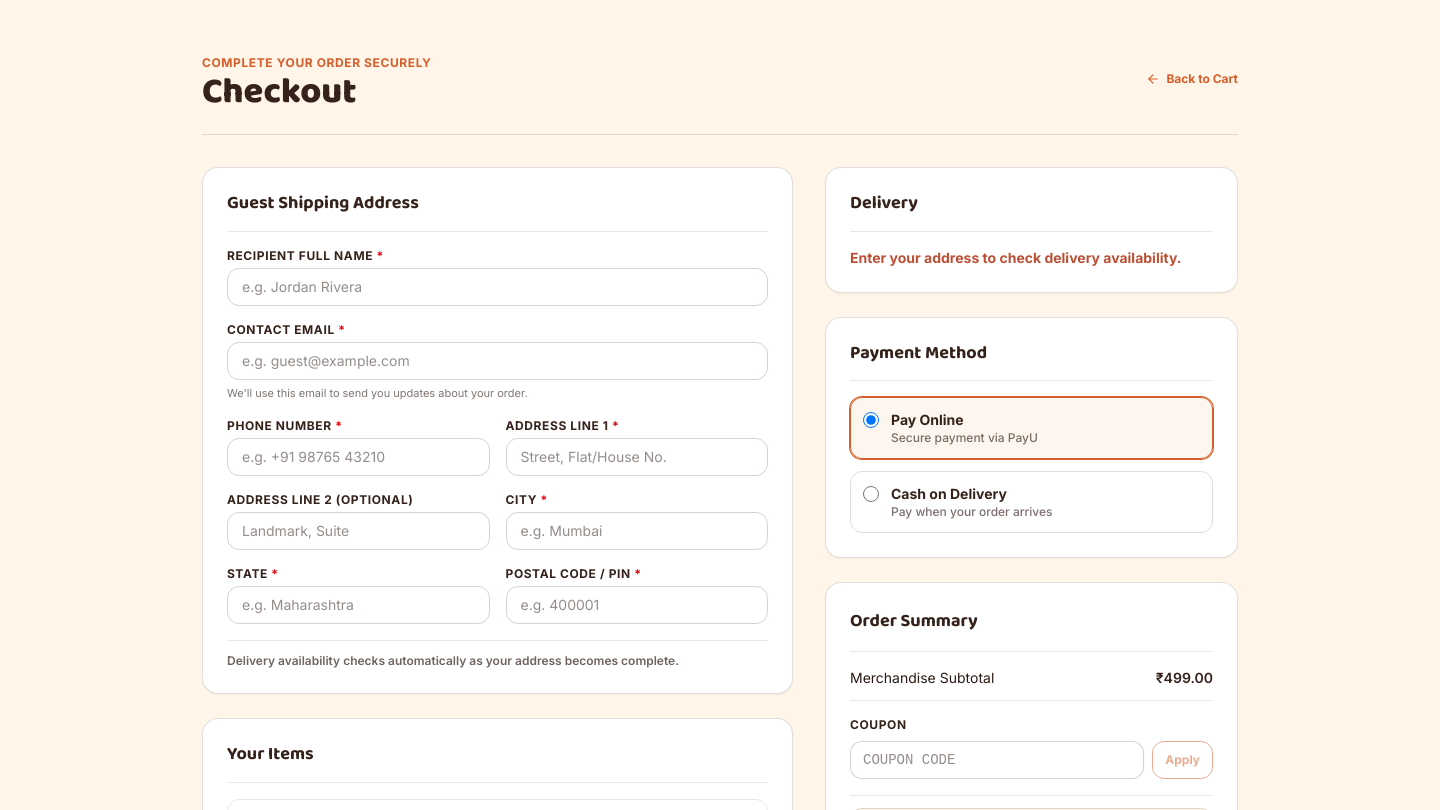
Test: Stage 2 consolidated checkout › does not let an older preview response overwrite the latest address
expect the heading "Guest Shipping Address" is shown: met, box [227, 192, 419, 215]
Step 1. Type "Guest User" into the field labelled "Recipient Full Name *" → point(498, 287), box [227, 268, 768, 306]
Step 2. Type "+91 98765 00000" into the field labelled "Phone Number *" → point(358, 457), box [227, 438, 490, 476]
Step 3. Type "123 Street" into the field labelled "Address Line 1 *" → point(637, 457), box [506, 438, 768, 476]
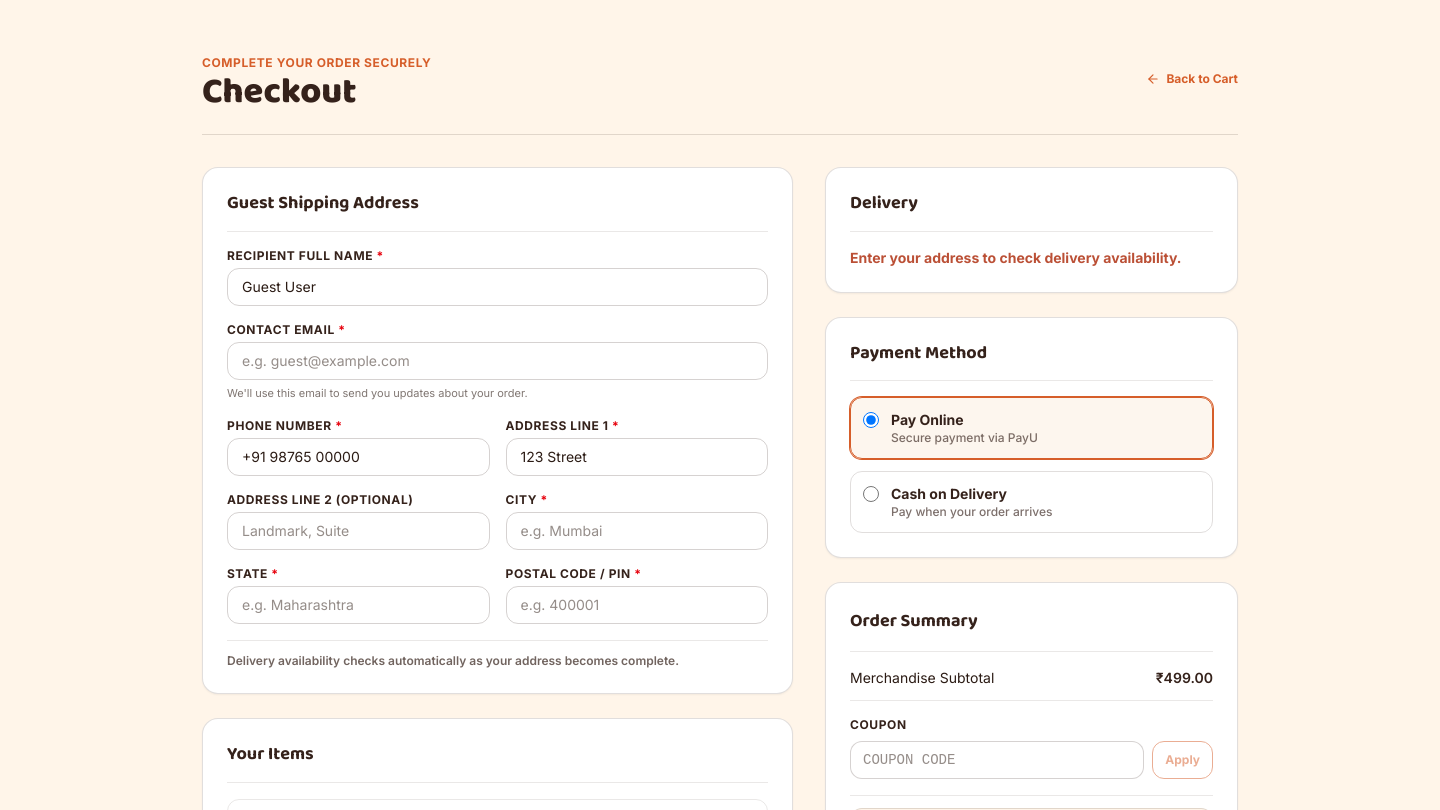
Step 4. Type "Mumbai" into the field labelled "City *" → point(637, 531), box [506, 512, 768, 550]
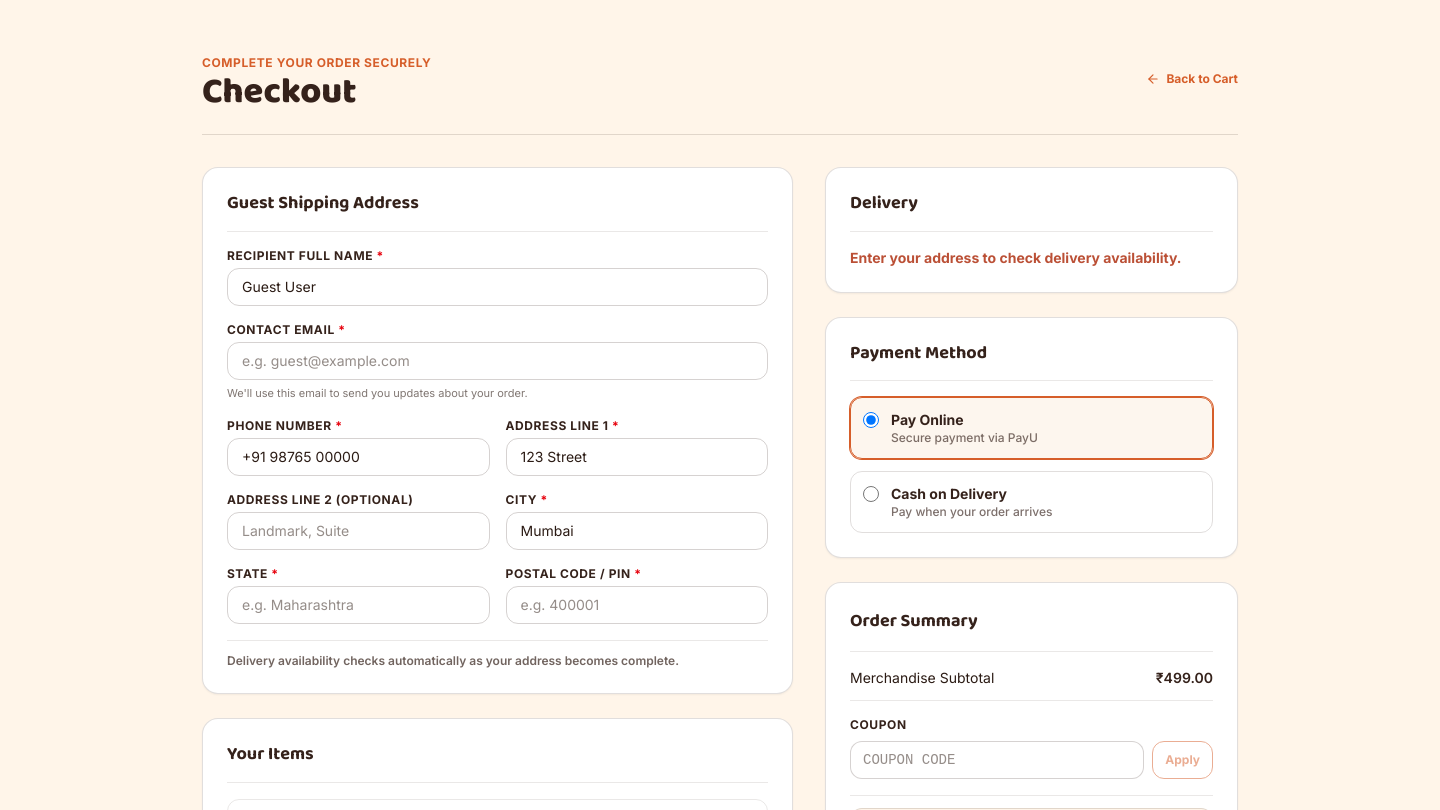
Step 5. Type "Maharashtra" into the field labelled "State *" → point(358, 605), box [227, 586, 490, 624]
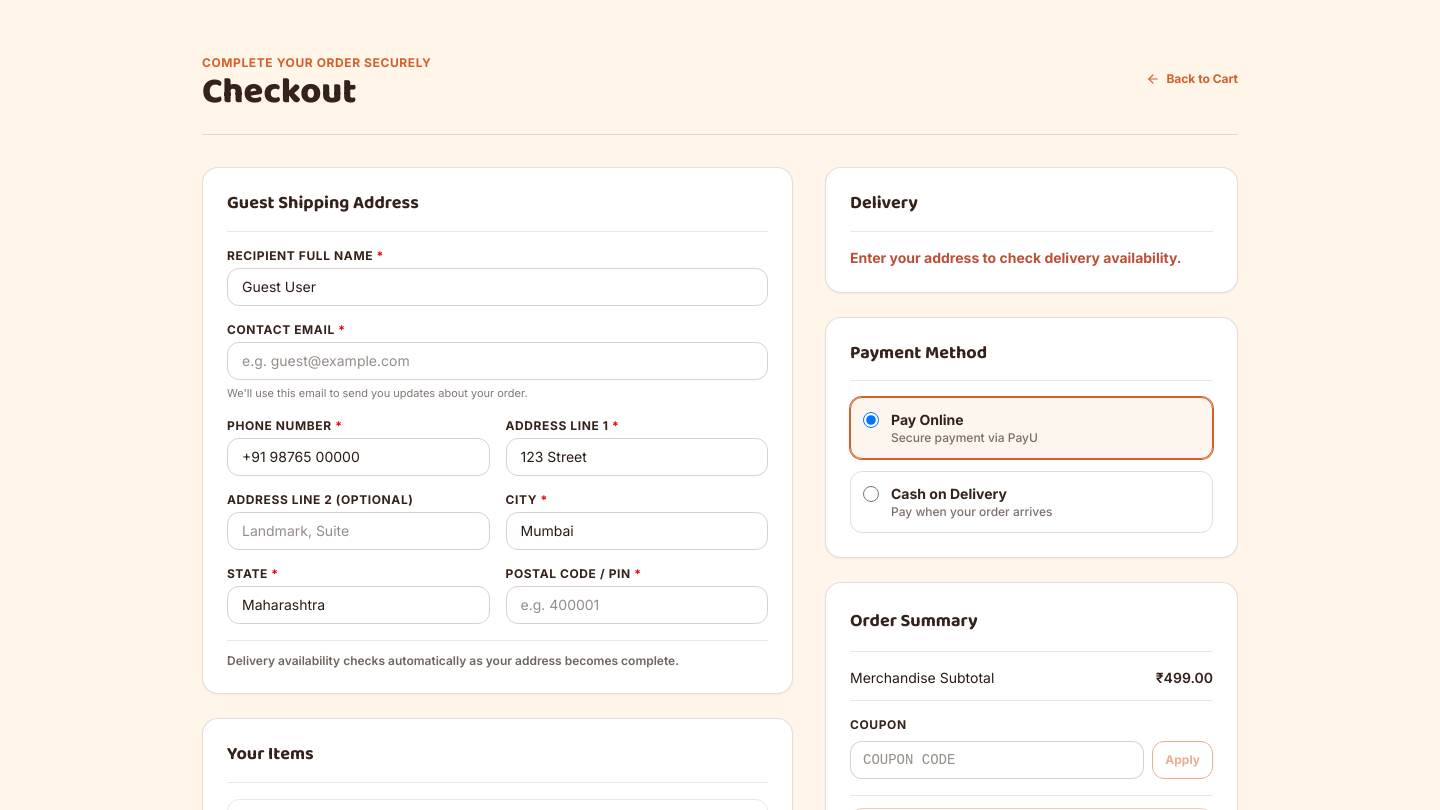
Step 6. Type "400001" into the field labelled "Postal Code / PIN *" → point(637, 605), box [506, 586, 768, 624]
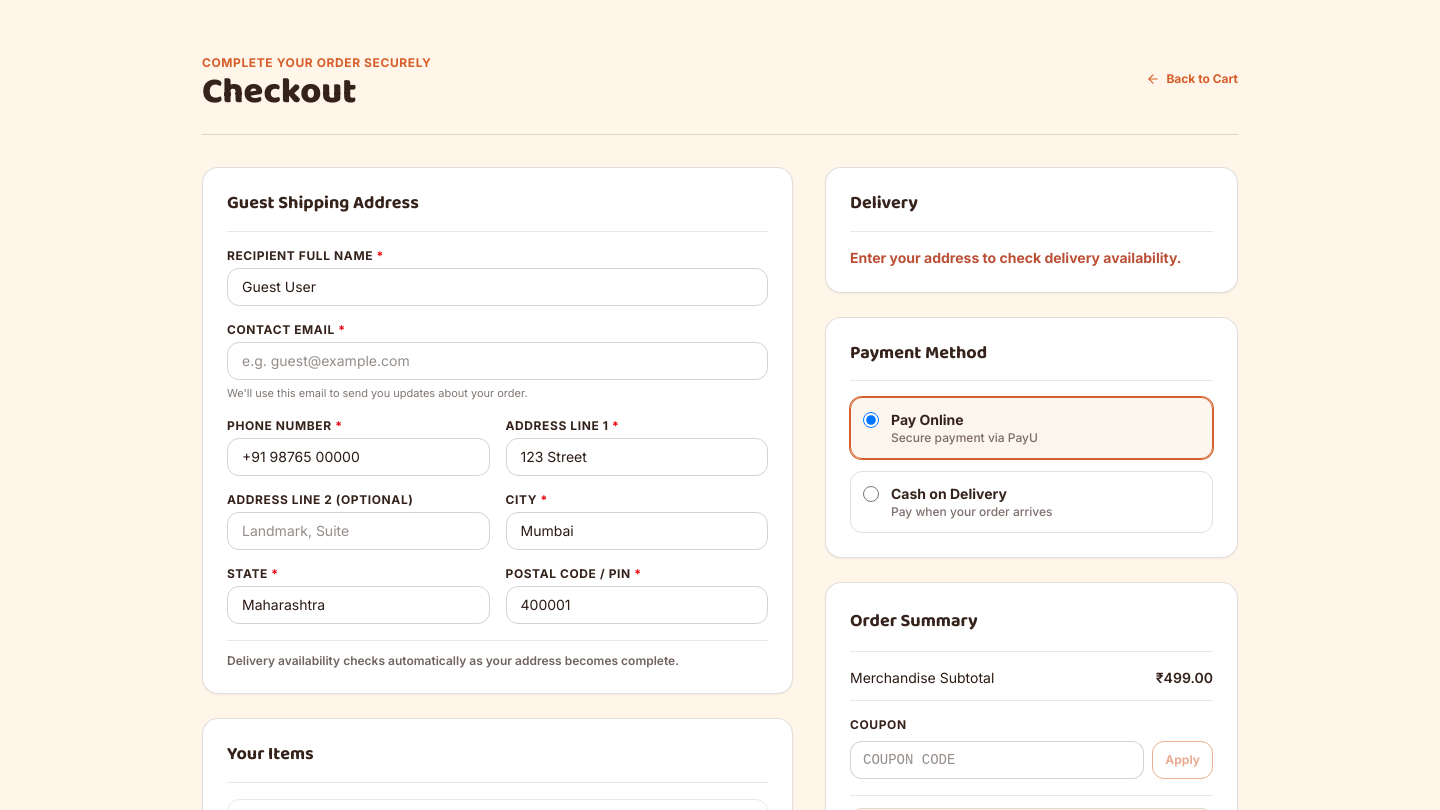
Step 7. Type "guest@example.com" into the field labelled "Contact Email *" → point(498, 361), box [227, 342, 768, 380]
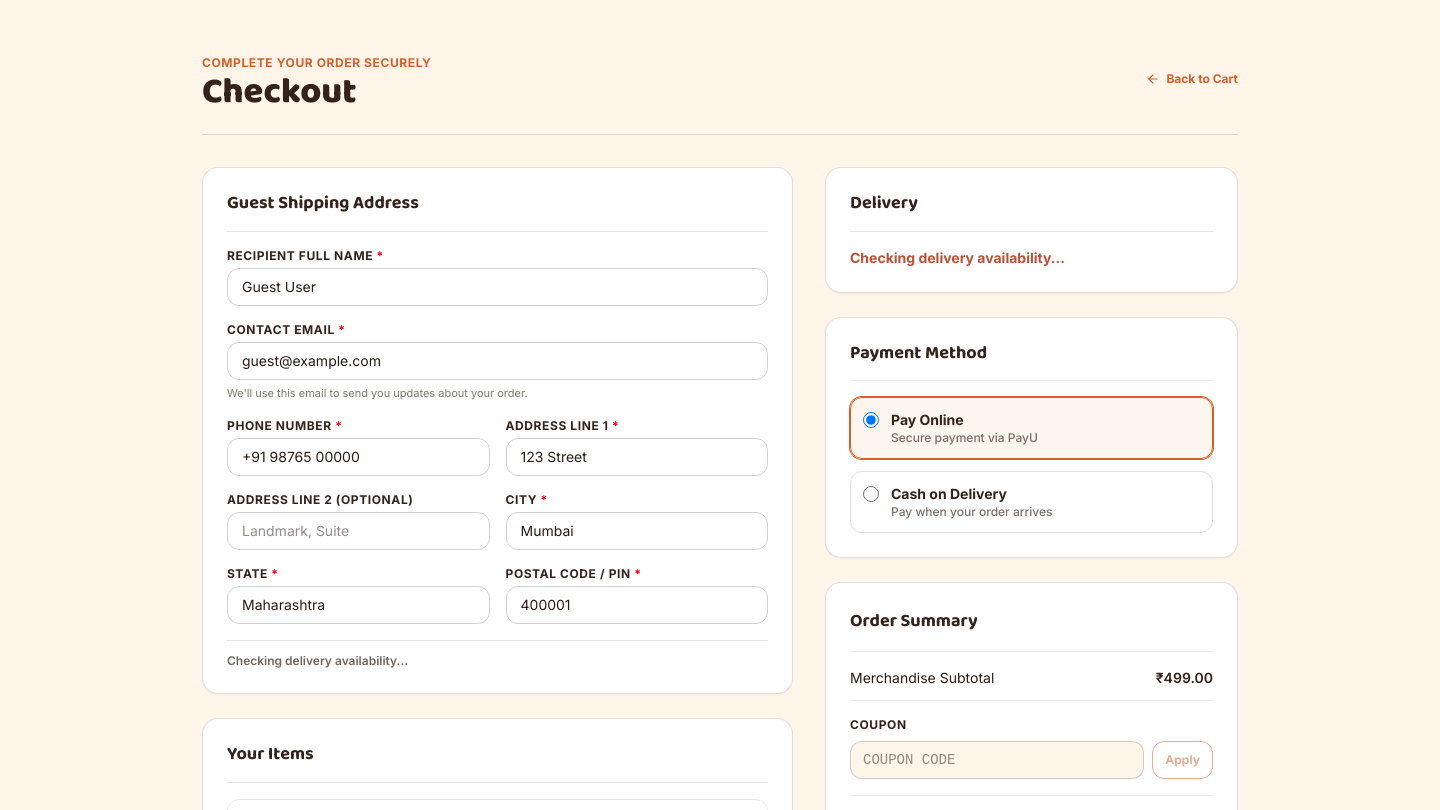
Step 8. Replace the text in the field labelled "Postal Code / PIN *" with "600034" → point(637, 605), box [506, 586, 768, 624]
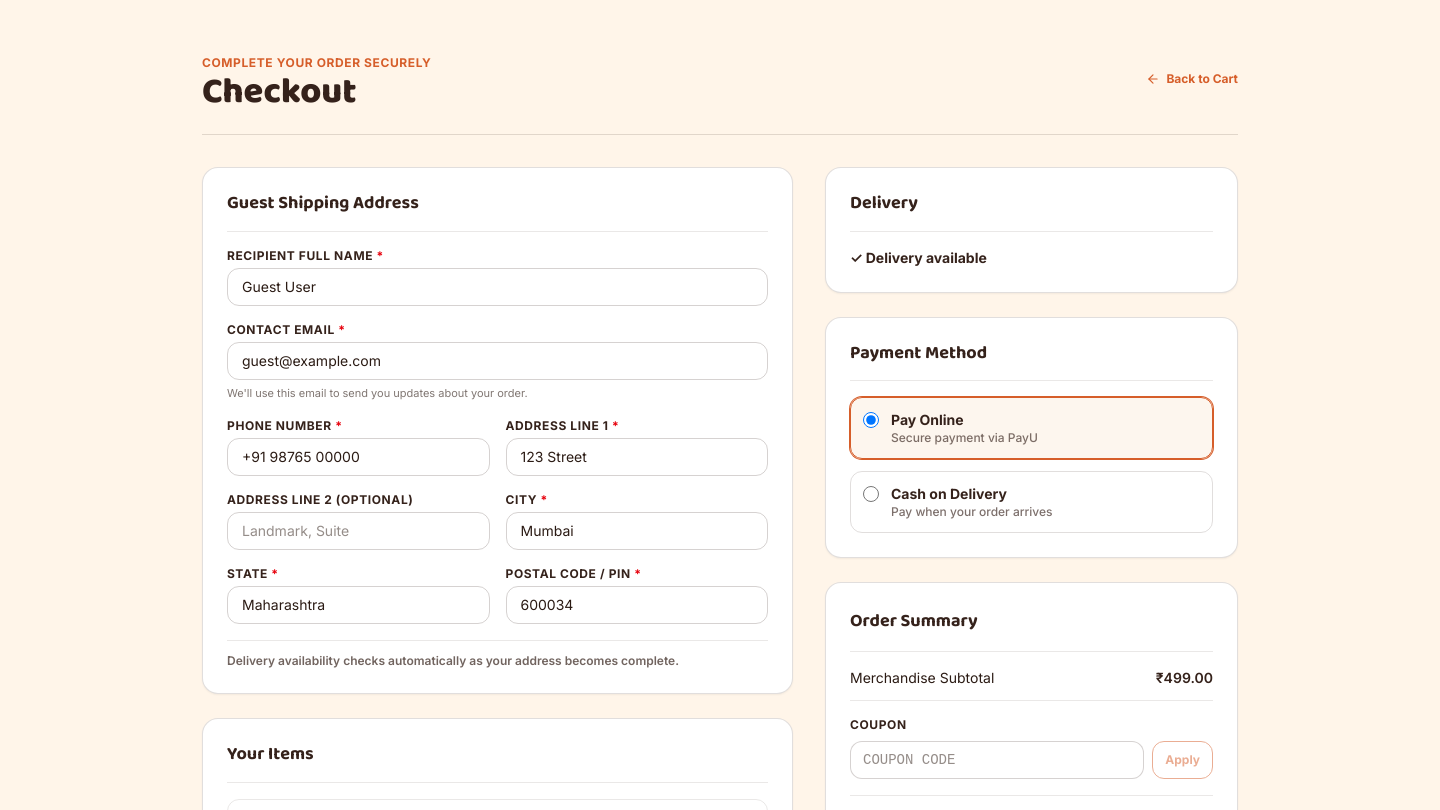
expect the text "✓ Delivery available" is shown: met, box [850, 249, 987, 266]
